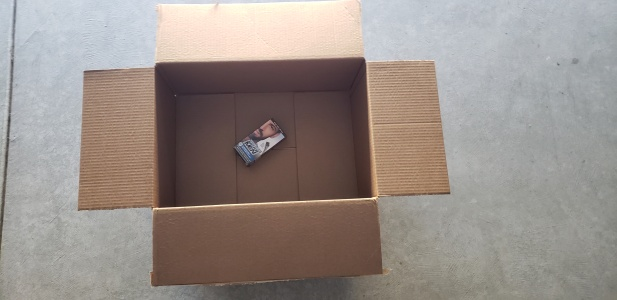innerbox: (154, 64, 378, 201)
outerbox: (81, 4, 443, 278)
product: (236, 120, 276, 158)
